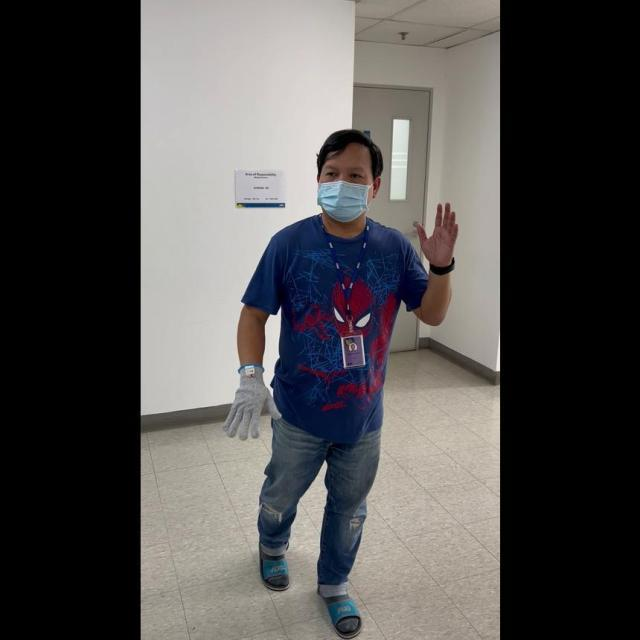bare_hand: (413, 197, 459, 269)
gloved_hand: (220, 364, 281, 438)
